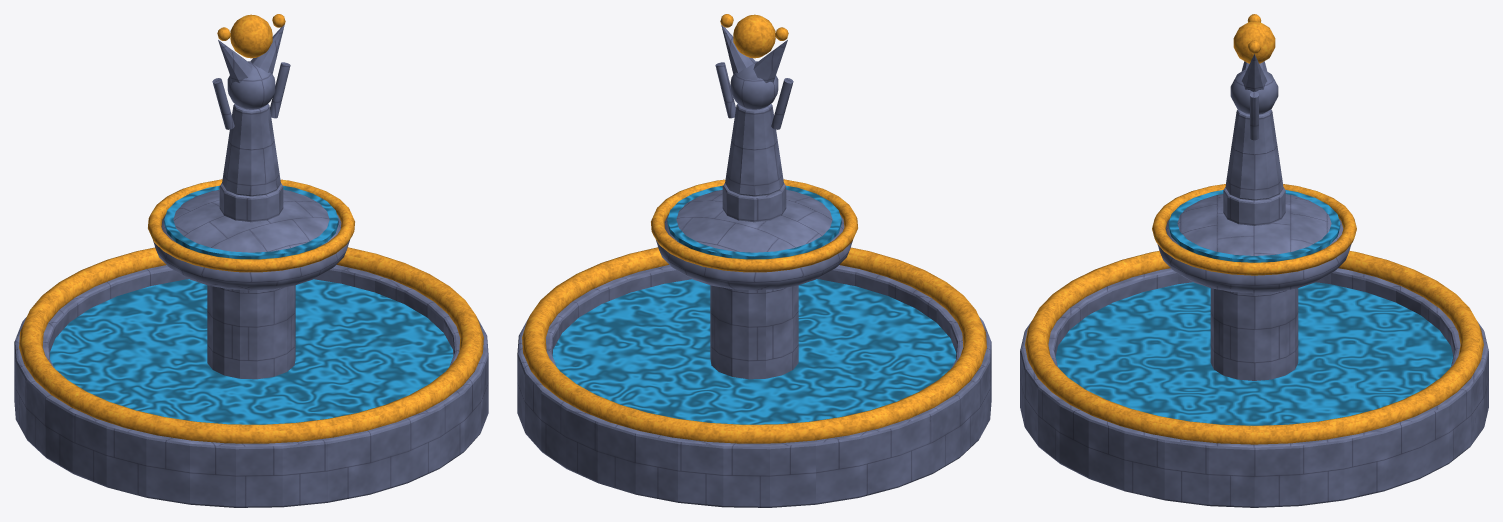
Rendered from MO_Fountain.fbx.
The picture shows the model from 3 angles, left to right: view 1: azimuth 30°, elevation 25°; view 2: azimuth 150°, elevation 25°; view 3: azimuth 270°, elevation 25°; orthographic projection.
Parts seen in each view (by area): view 1: MO_Fountain; view 2: MO_Fountain; view 3: MO_Fountain.
Part boxes in pixels (left/top/right/bottom): MO_Fountain: left=14, top=14, right=488, bottom=507; MO_Fountain: left=517, top=14, right=991, bottom=507; MO_Fountain: left=1020, top=14, right=1488, bottom=507.
Size of the model in its own units: 4.8 by 4.36 by 4.8.
